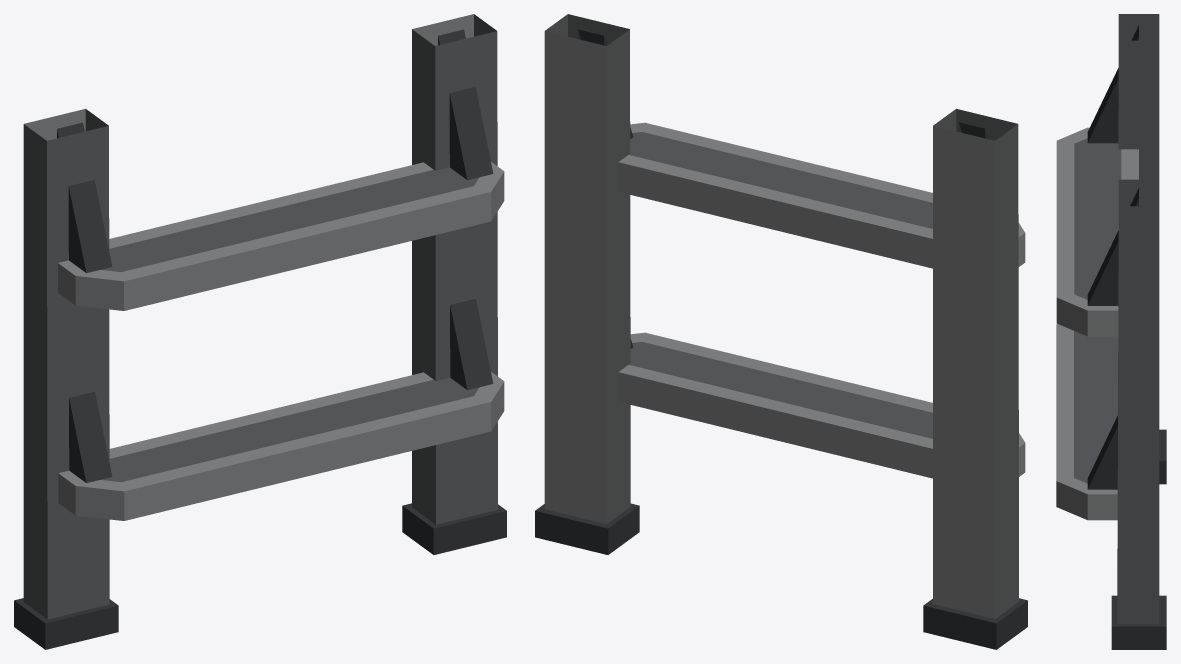
The model's file is Ladder_short_002.fbx.
3 renders of one model, left to right at view 1: azimuth 30°, elevation 25°; view 2: azimuth 150°, elevation 25°; view 3: azimuth 270°, elevation 25°, orthographic. The views are drawn at different scales.
Parts seen in each view (by area): view 1: Ladder_short_002; view 2: Ladder_short_002; view 3: Ladder_short_002.
Part boxes in pixels (left/top/right/bottom): Ladder_short_002: left=14, top=14, right=506, bottom=649; Ladder_short_002: left=535, top=14, right=1027, bottom=649; Ladder_short_002: left=1056, top=14, right=1166, bottom=649.
Bounding box in the file's own units: 119 × 28.1 × 124.
